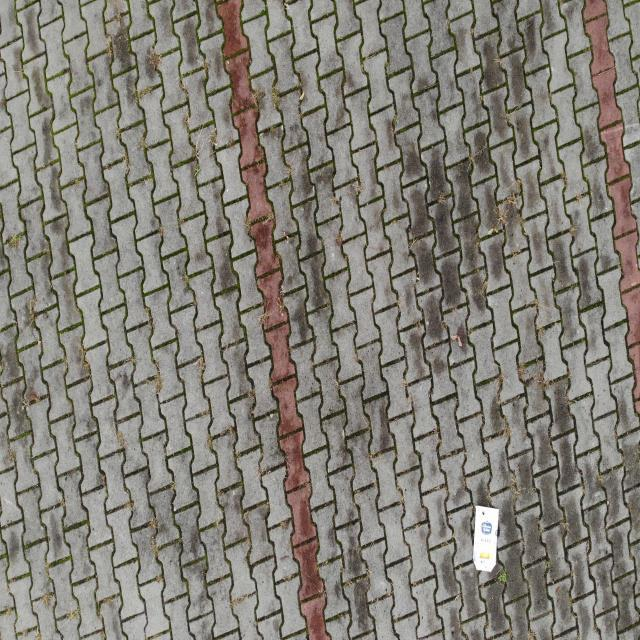rubbish: (472, 504, 500, 571)
